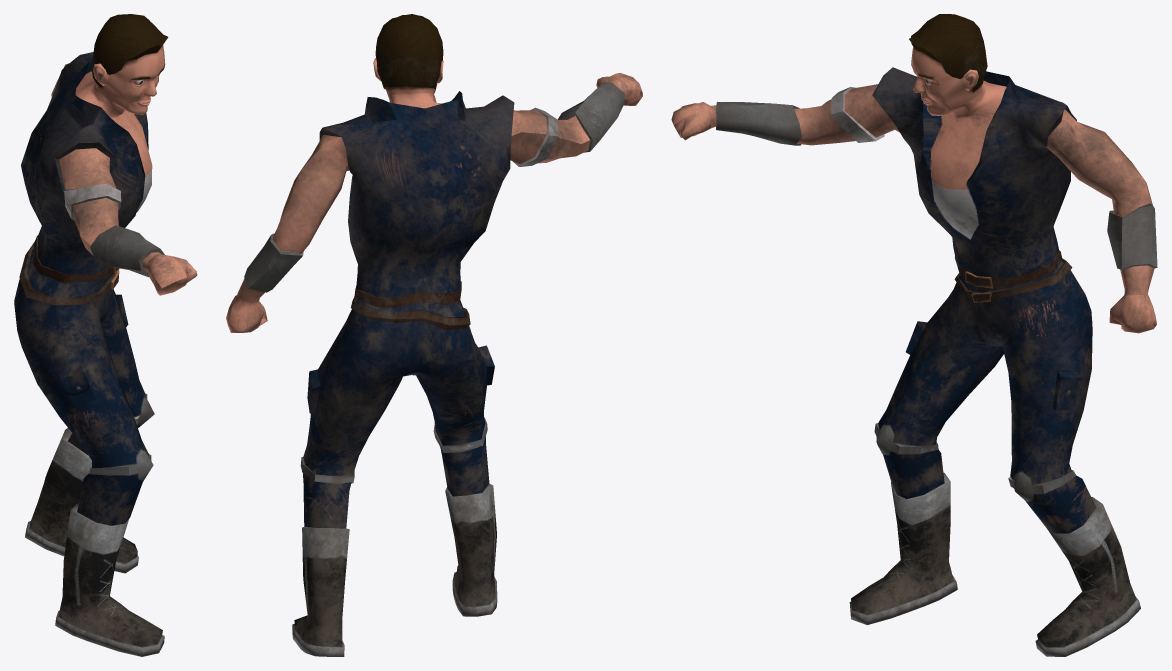
Rendered from Anim_abrir_puerta_ok_jugador.0027.obj.
The picture shows the model from 3 angles, left to right: view 1: azimuth 30°, elevation 25°; view 2: azimuth 150°, elevation 25°; view 3: azimuth 270°, elevation 25°; orthographic projection. The views are drawn at different scales.
Parts seen in each view (by area): view 1: polySurface1; view 2: polySurface1; view 3: polySurface1.
Part boxes in pixels (x1=…): polySurface1: x1=14, y1=14, x2=197, y2=656; polySurface1: x1=226, y1=14, x2=642, y2=656; polySurface1: x1=671, y1=14, x2=1157, y2=656.
Bounding box in the file's own units: 3.23 × 9.19 × 6.61.
